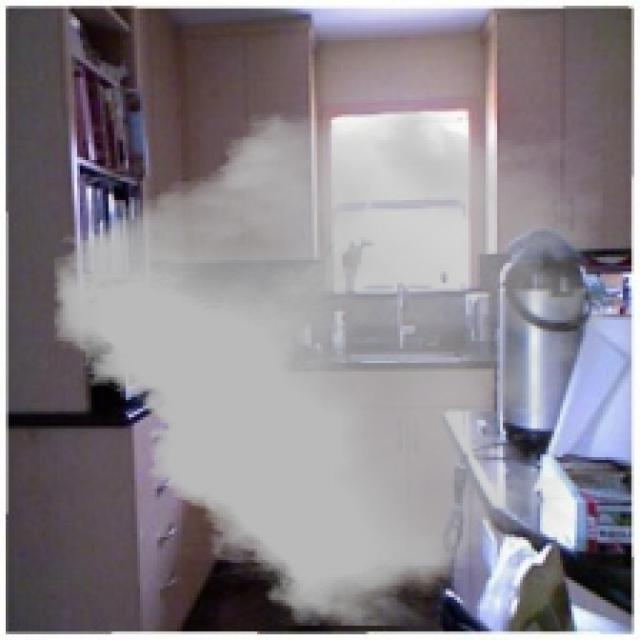smoke: (54, 105, 603, 626)
